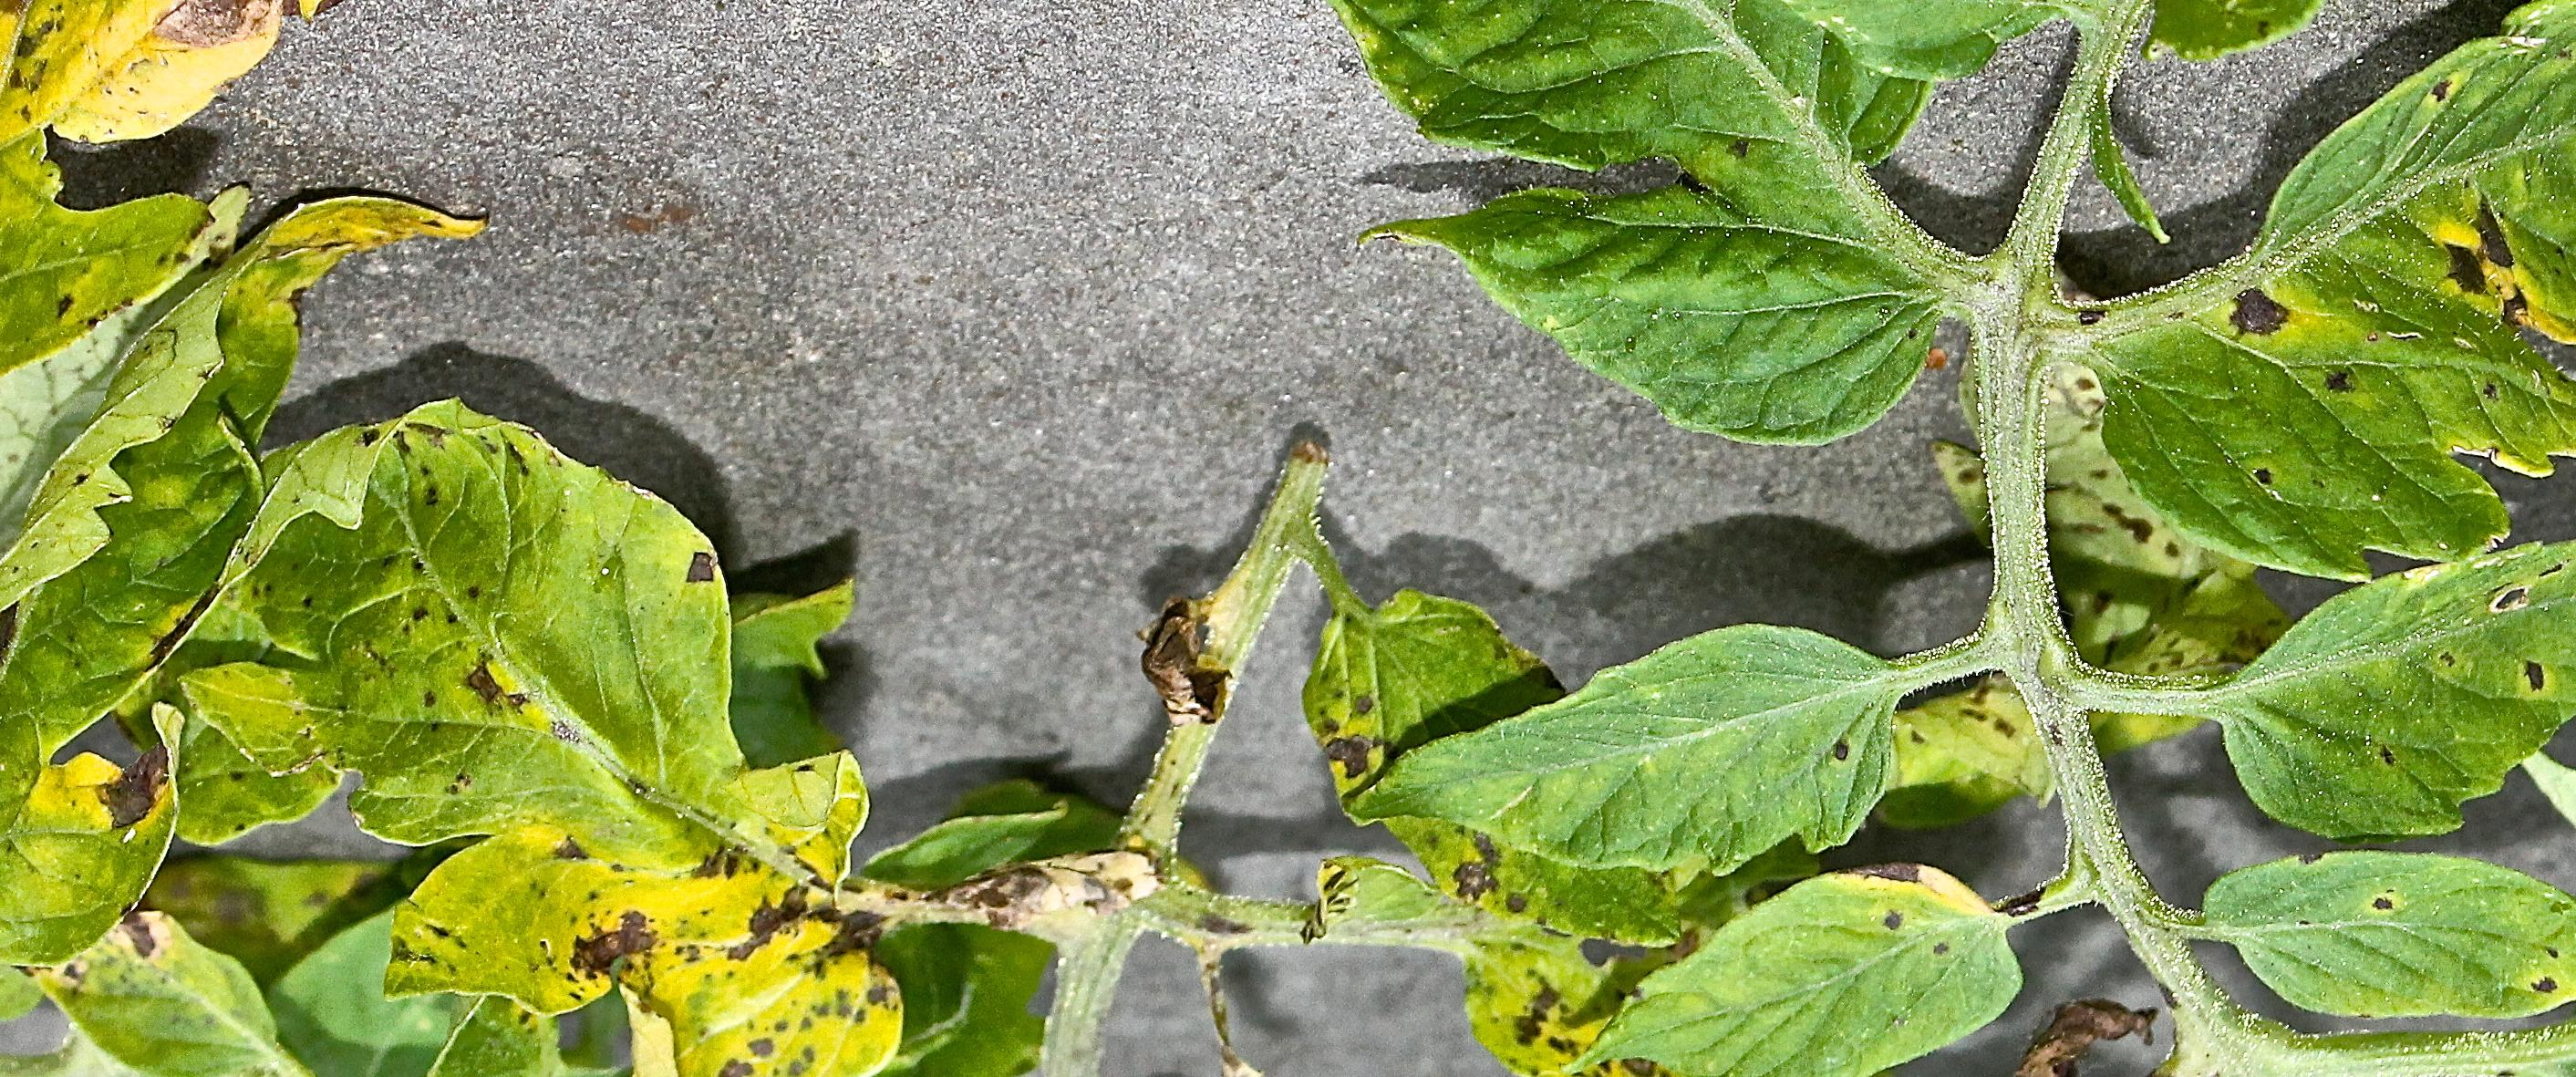Tomato Septoria leaf spot: (251, 425, 978, 1077), (1098, 0, 1986, 410), (2065, 0, 2576, 564), (0, 0, 389, 542)
